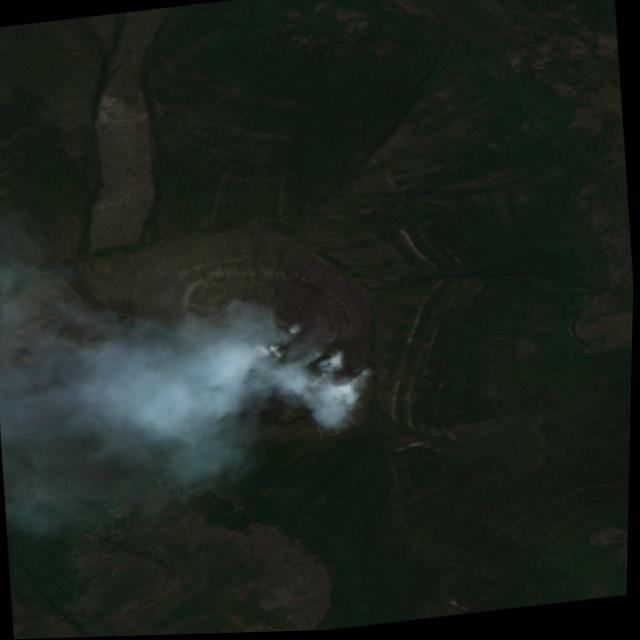fire: (250, 312, 379, 403)
